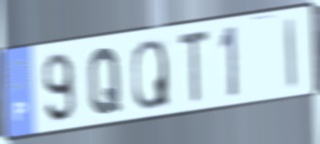1: (217, 23, 240, 101)
9: (40, 52, 78, 124)
I: (283, 15, 299, 92)
Q: (130, 37, 172, 112), (87, 45, 123, 118)
T: (177, 28, 212, 108)
